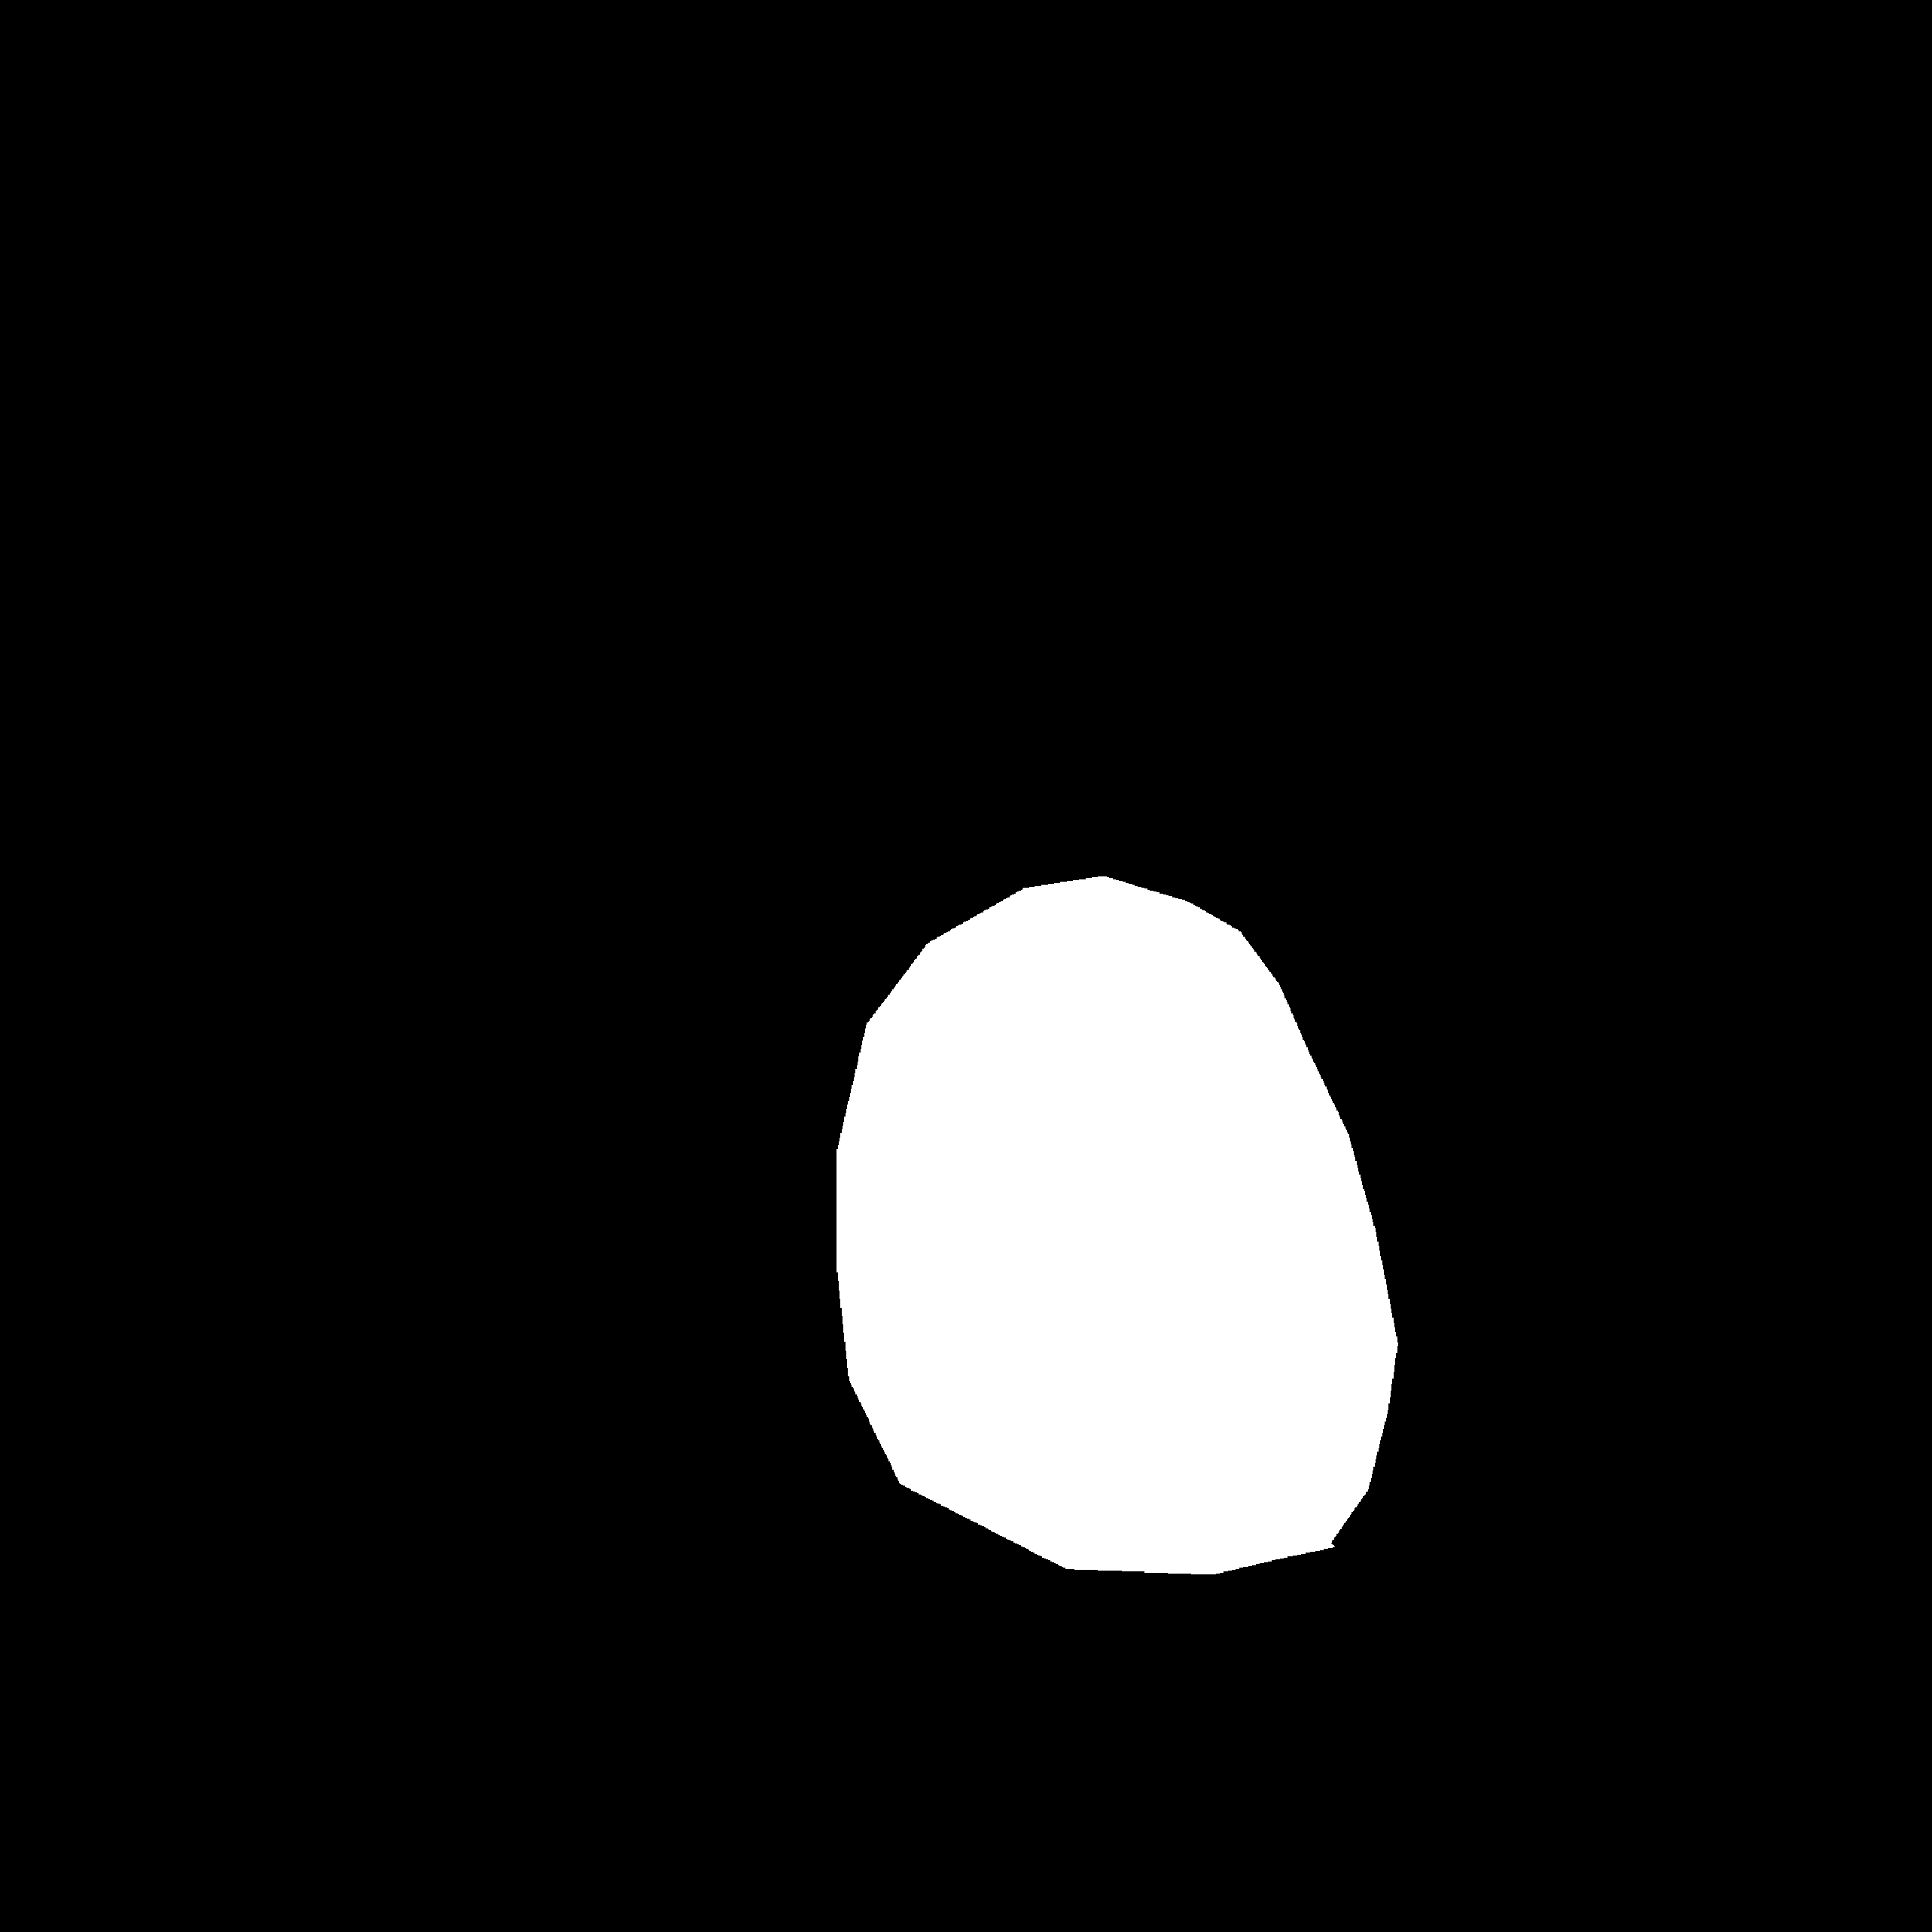heart: (832, 1003, 1392, 1594)
left_lung: (218, 230, 915, 1833)
right_lung: (1069, 234, 1690, 1796)
